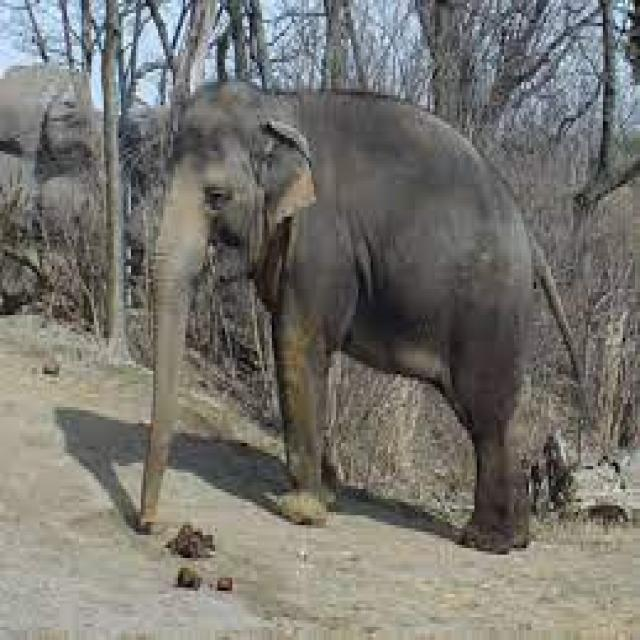Elephant: (110, 69, 571, 605)
